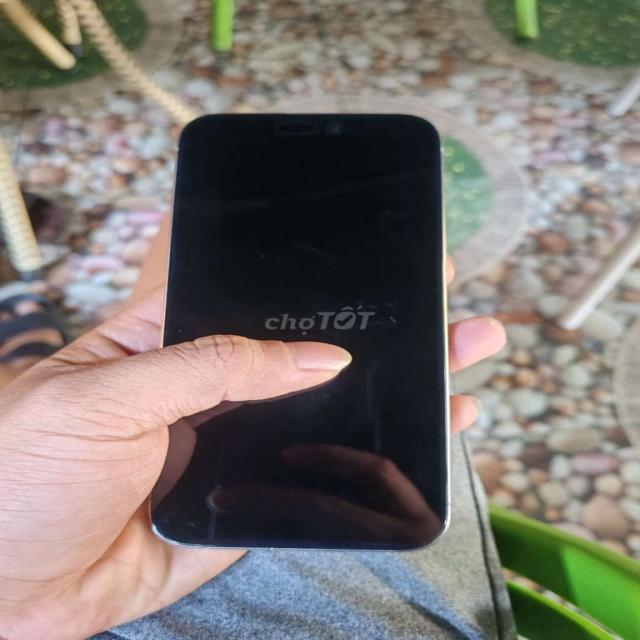gen_15: (140, 98, 475, 564)
